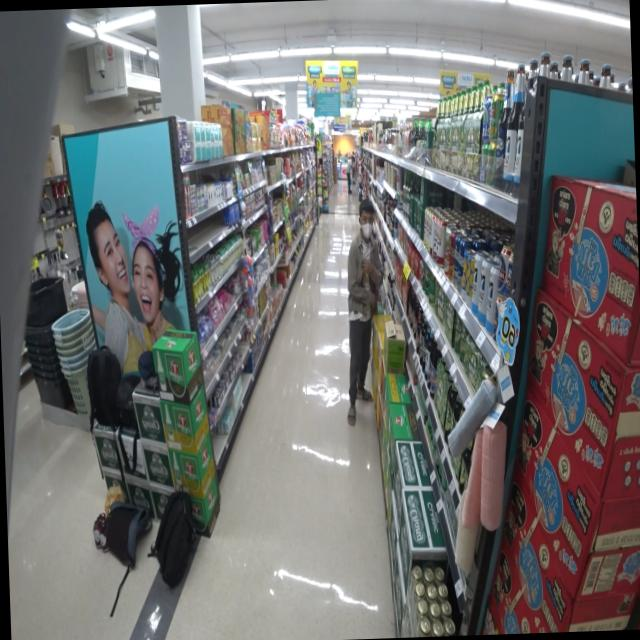shoplifting: (338, 202, 388, 428)
